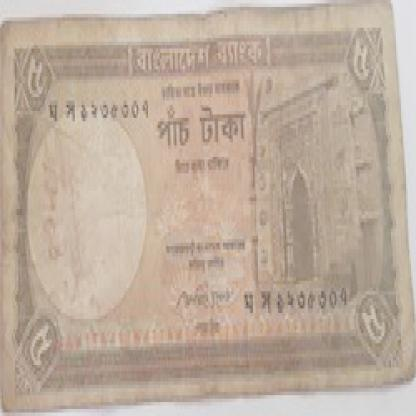Five Taka: (18, 312, 58, 378), (354, 294, 393, 361), (15, 35, 50, 108), (346, 31, 381, 97)
